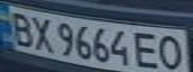4: (109, 28, 133, 66)
6: (90, 25, 112, 64), (72, 22, 93, 61)
9: (51, 20, 78, 57)
B: (3, 8, 36, 47)
E: (130, 29, 163, 71)
O: (154, 33, 187, 72)
X: (27, 15, 57, 53)
